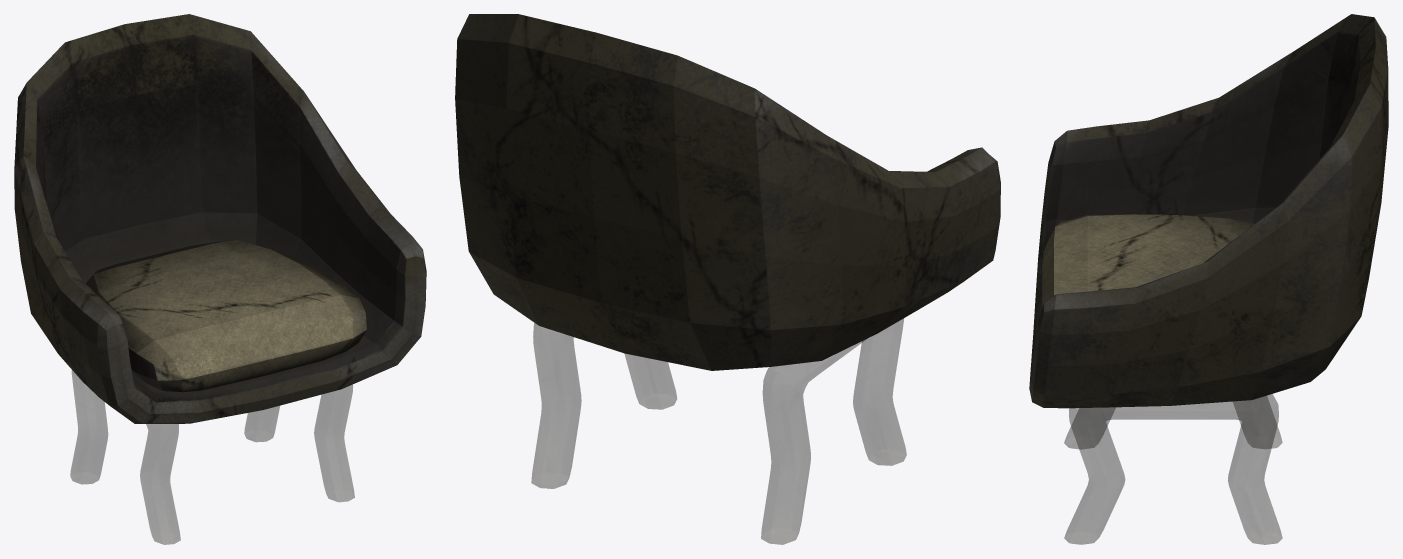
The model's file is Ext_Silla_V2.glb.
3 views of the same model, side by side, from view 1: azimuth 30°, elevation 25°; view 2: azimuth 150°, elevation 25°; view 3: azimuth 270°, elevation 25° (orthographic). The views are drawn at different scales.
Parts seen in each view (by area): view 1: Base_Silla_v2, Patas_Silla_V2; view 2: Base_Silla_v2, Patas_Silla_V2; view 3: Base_Silla_v2, Patas_Silla_V2.
Part boxes in pixels (x1,y1,x2,y2): Base_Silla_v2: [14, 14, 426, 423]; Patas_Silla_V2: [70, 370, 354, 544]; Base_Silla_v2: [455, 14, 1000, 370]; Patas_Silla_V2: [531, 318, 906, 544]; Base_Silla_v2: [1029, 14, 1388, 408]; Patas_Silla_V2: [1064, 394, 1282, 544].
Size of the model in its own units: 0.9471 by 1.1 by 0.7992.
2 materials, 2 textured.
